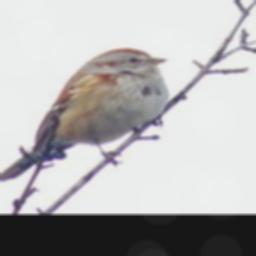Sparrow: (0, 46, 166, 181)
